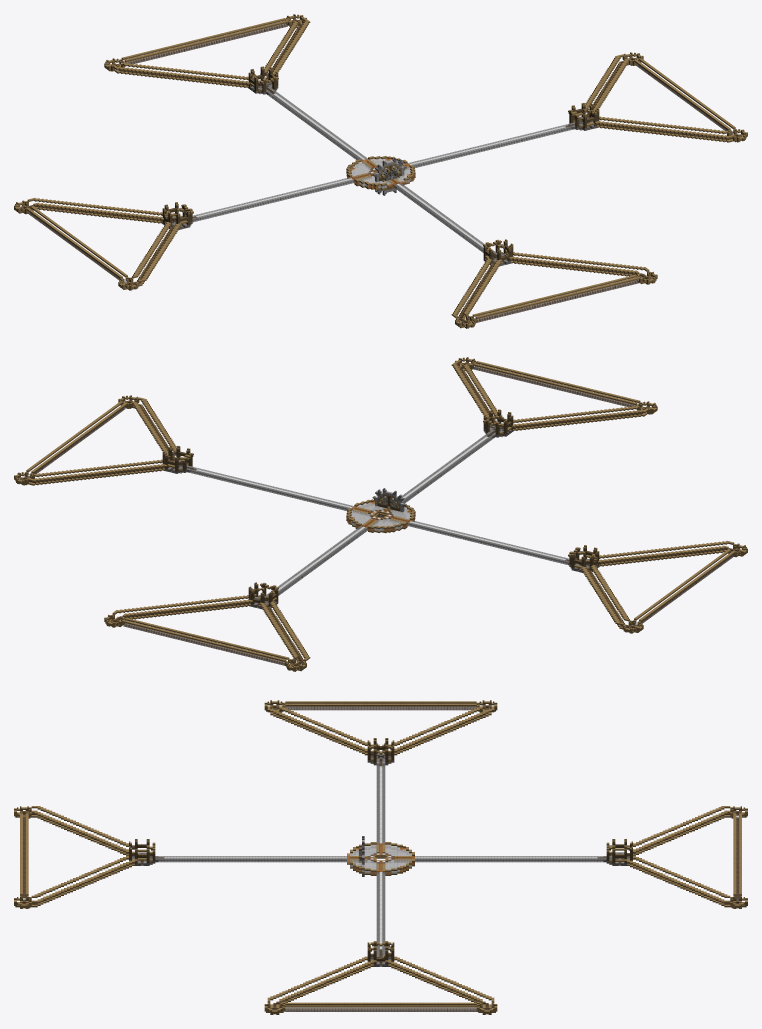
The model's file is pregame.glb.
3 views of the same model, one above another, from view 1: azimuth 30°, elevation 25°; view 2: azimuth 150°, elevation 25°; view 3: azimuth 270°, elevation 25° (orthographic).
Visible parts, largest first — view 1: blockentity:minecraft:sign__glyph; view 2: blockentity:minecraft:sign__glyph; view 3: blockentity:minecraft:sign__glyph.
Part boxes in pixels (bbox=[...]): blockentity:minecraft:sign__glyph: bbox=[14, 14, 747, 328]; blockentity:minecraft:sign__glyph: bbox=[14, 357, 747, 671]; blockentity:minecraft:sign__glyph: bbox=[14, 700, 747, 1014].
Size of the model in its own units: 249 by 13 by 249.
Materials: 15 (15 with a texture image).
